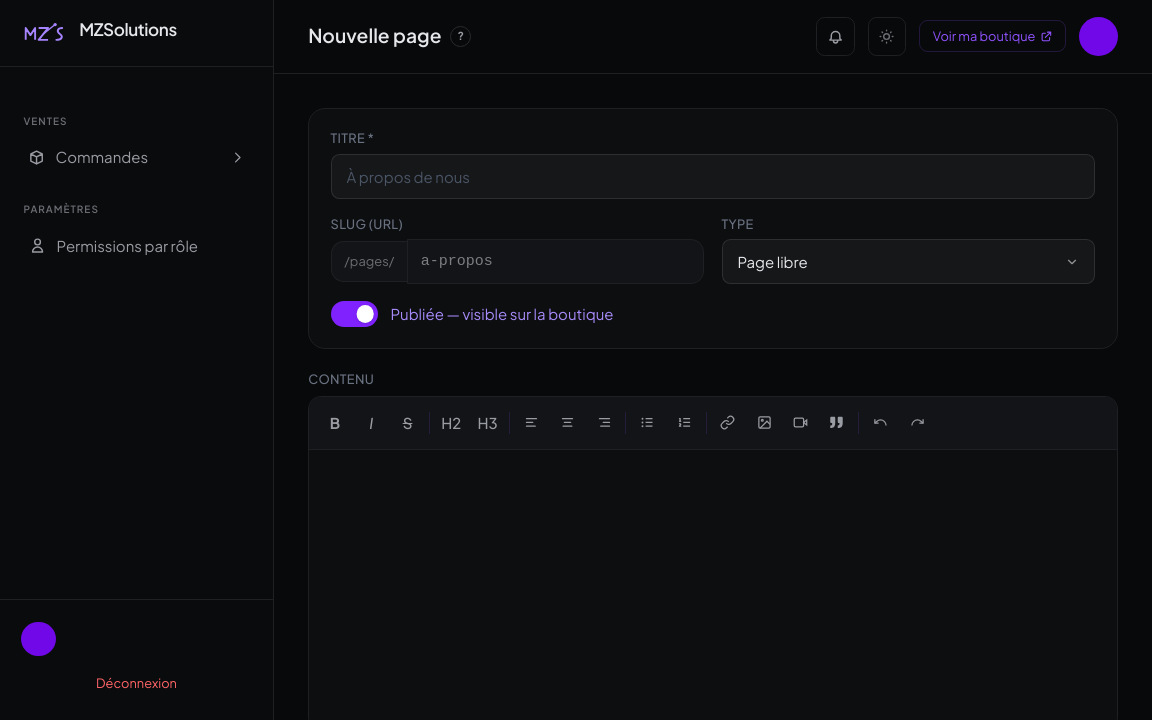
PageFormPage › auto-derives the slug from the title in create mode
Type "Notre Histoire" into the field with placeholder "À propos de nous" at [713, 176], box [330,154,1095,199]
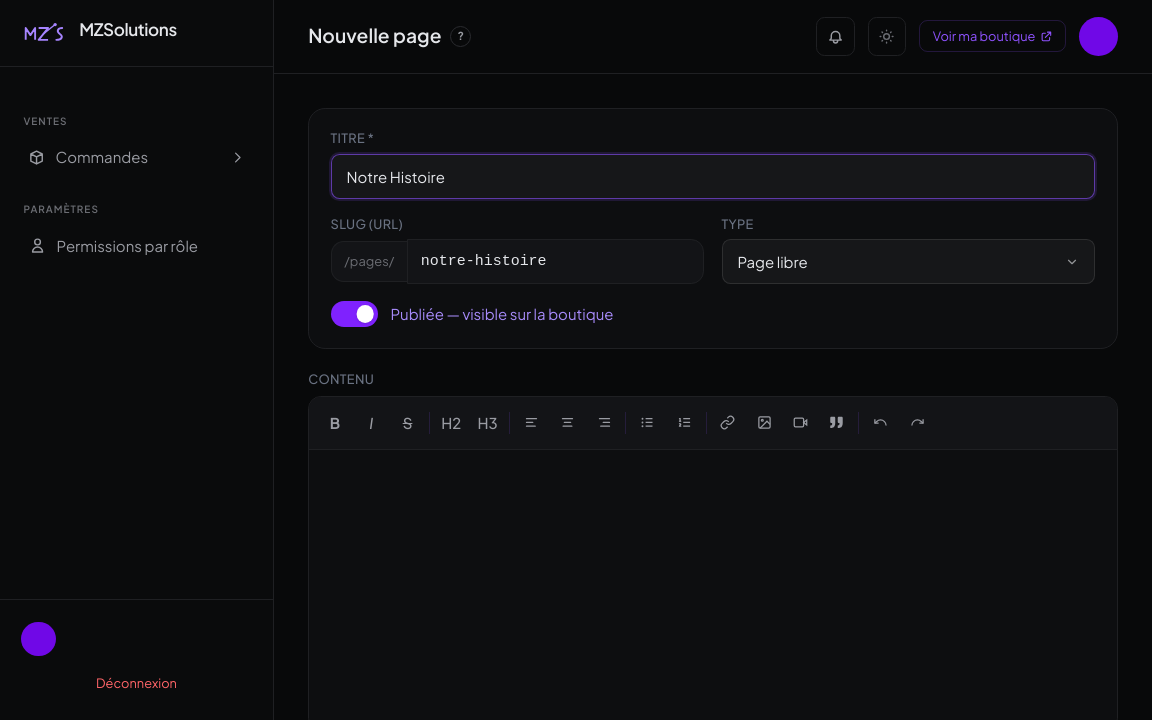
Result: the field with placeholder "a-propos" next to "/pages/" holds "notre-histoire" at [407,239,704,284]
